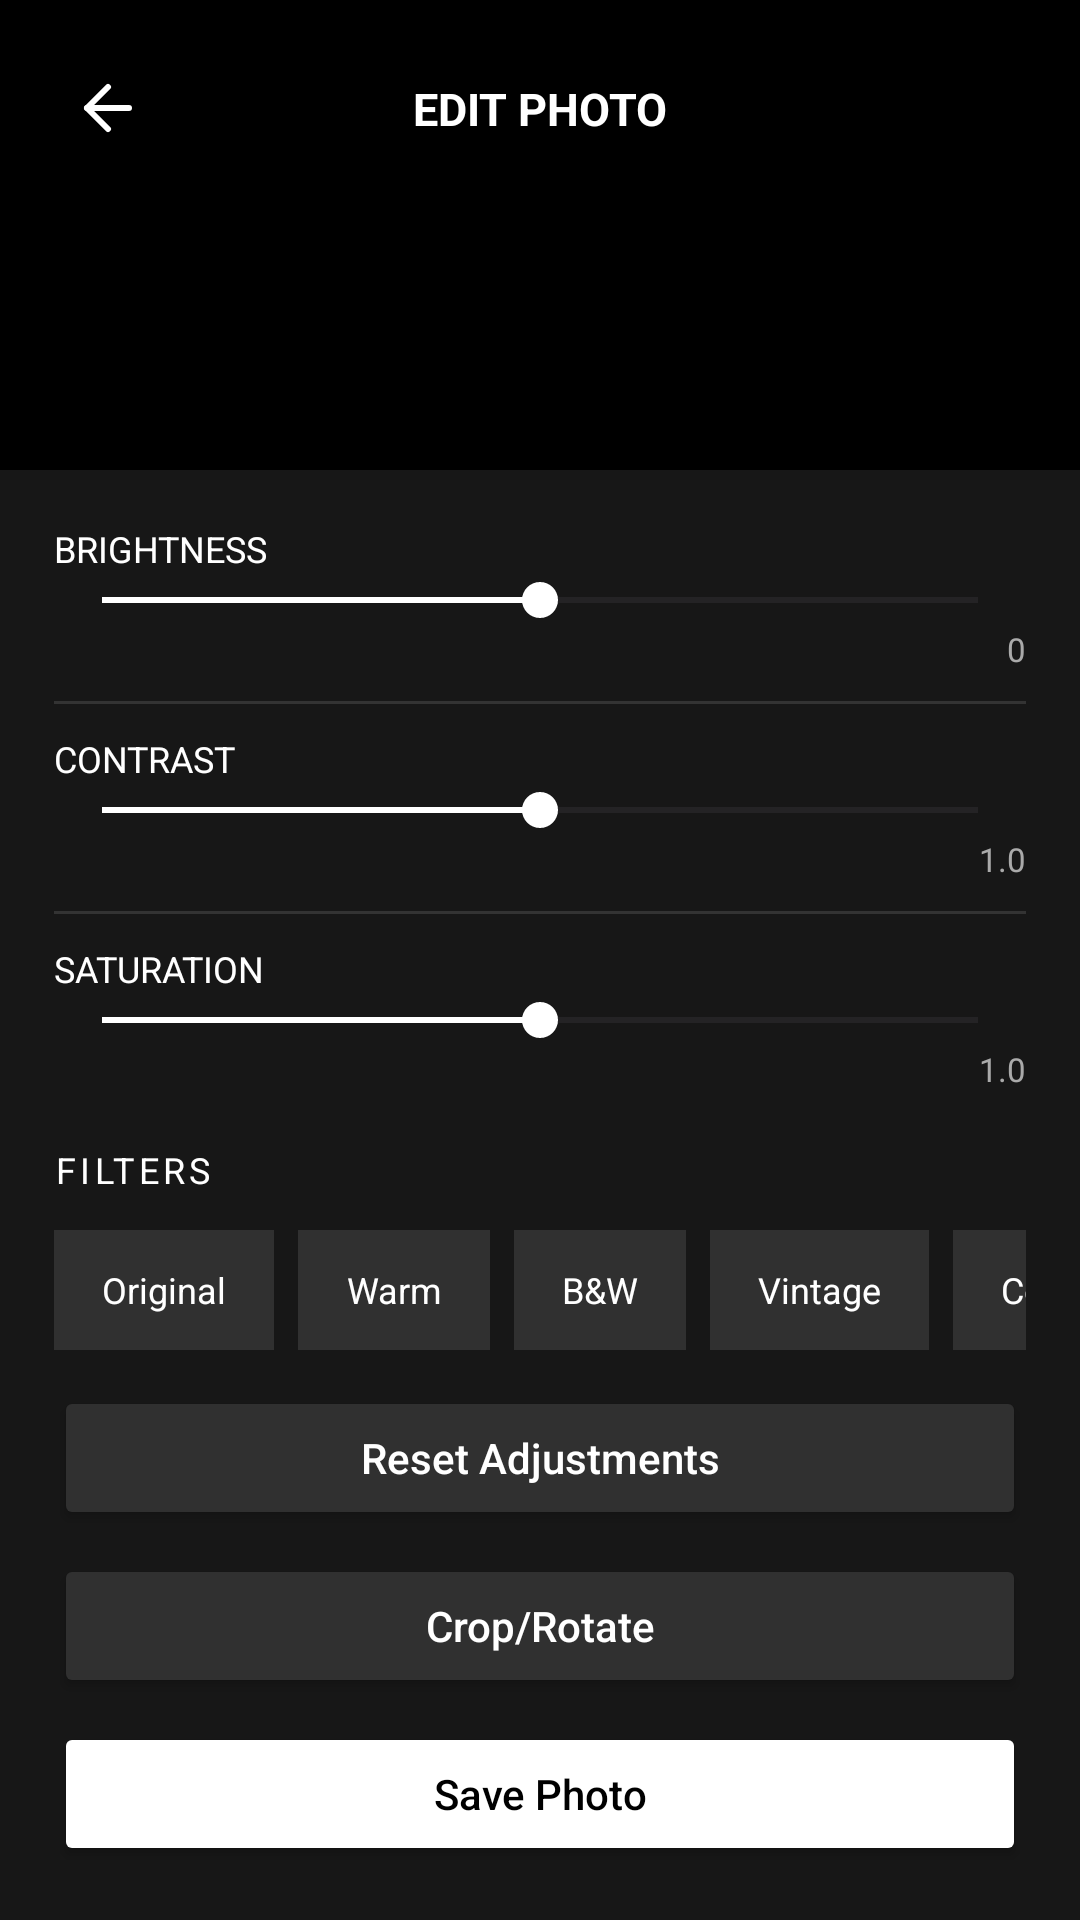

Named icons in this screenshot (1080px x 1920px) and their bounding boxes, bbox(x1, y1, x2, y2):
Back: bbox(84, 84, 132, 132)
